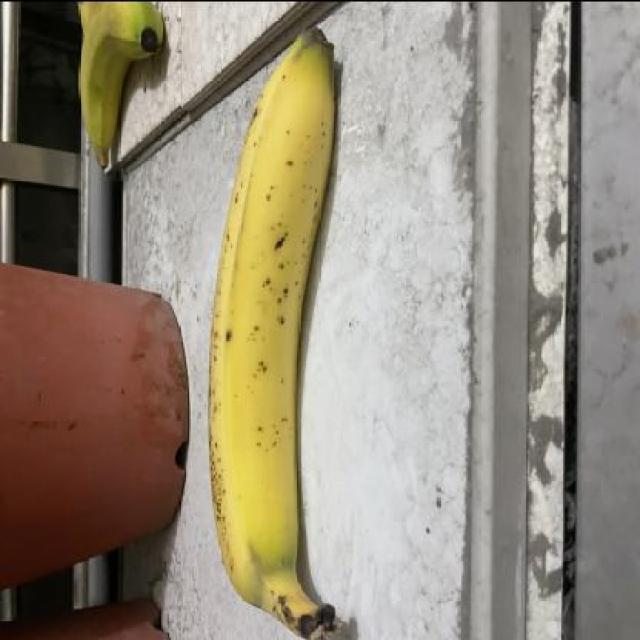Banana: (202, 22, 361, 635)
